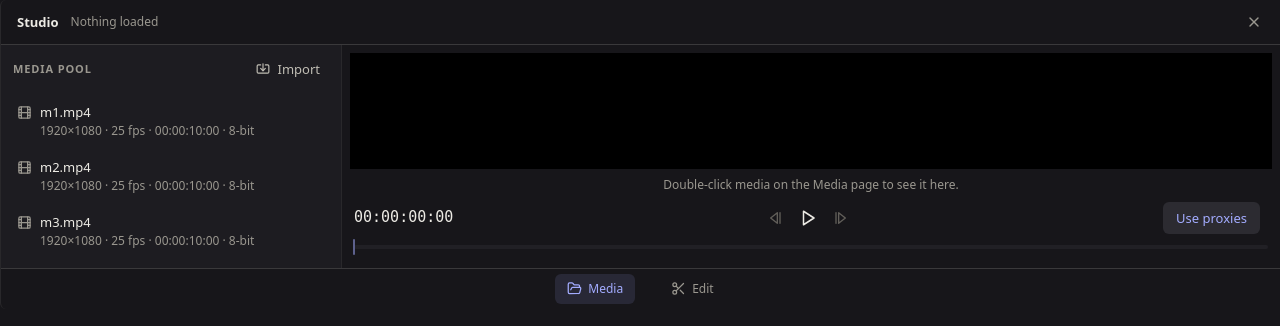
the media pool › shows media in the viewer at a double click, and at Enter; the arrows go through the list
Click the option "m2.mp4 1920×1080 · 25 fps · 00:00:10:00 · 8-bit".
click(136, 176)  # box [17, 158, 254, 194]
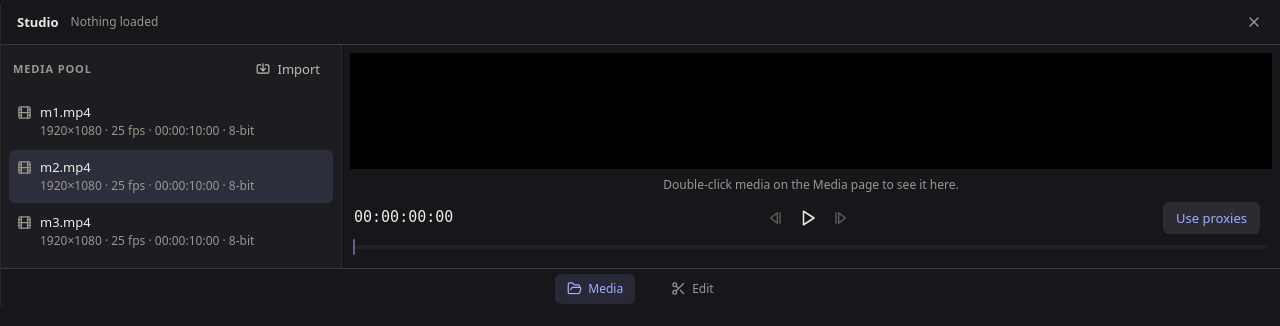
Double-click the option "m2.mp4 1920×1080 · 25 fps · 00:00:10:00 · 8-bit".
double_click(171, 176)  # box [9, 150, 333, 203]
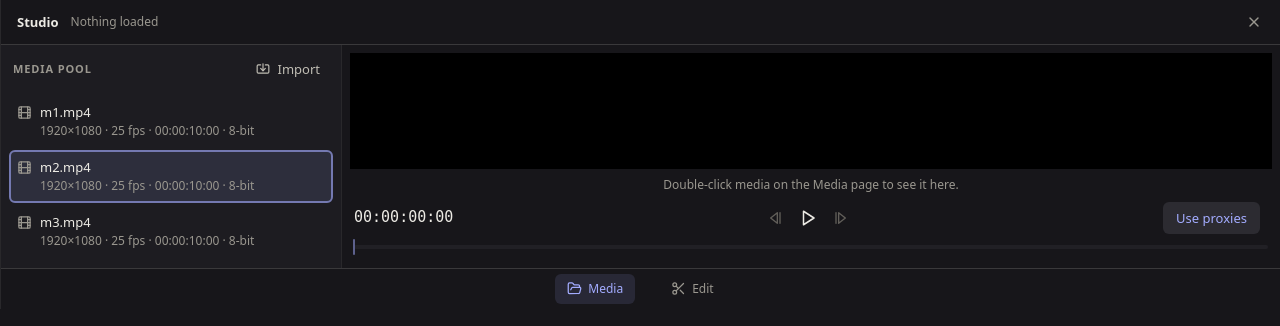
Press ArrowUp in the option "m2.mp4 1920×1080 · 25 fps · 00:00:10:00 · 8-bit", box [9, 150, 333, 203]
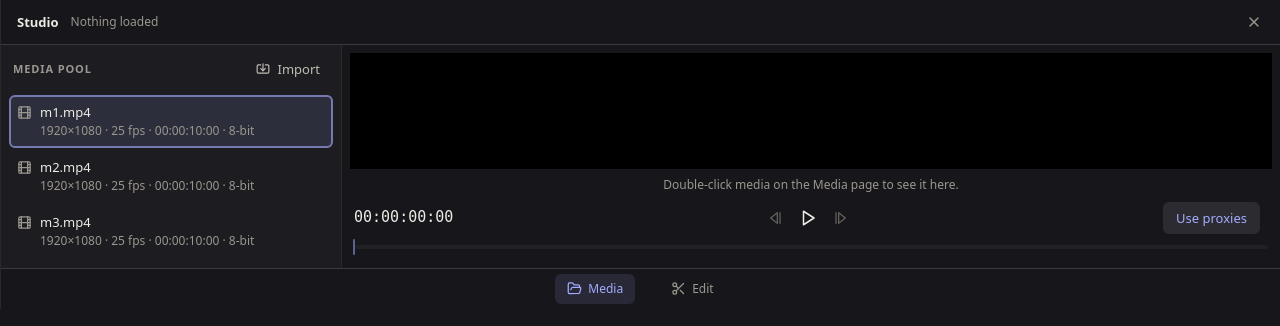
Press Enter in the option "m1.mp4 1920×1080 · 25 fps · 00:00:10:00 · 8-bit", box [9, 95, 333, 148]
Press ArrowDown in the option "m1.mp4 1920×1080 · 25 fps · 00:00:10:00 · 8-bit", box [9, 95, 333, 148]
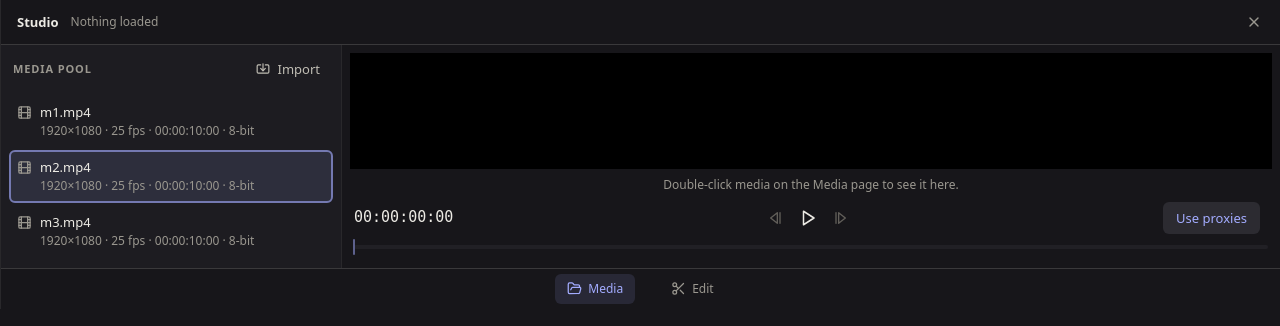
Press ArrowDown in the option "m2.mp4 1920×1080 · 25 fps · 00:00:10:00 · 8-bit", box [9, 150, 333, 203]
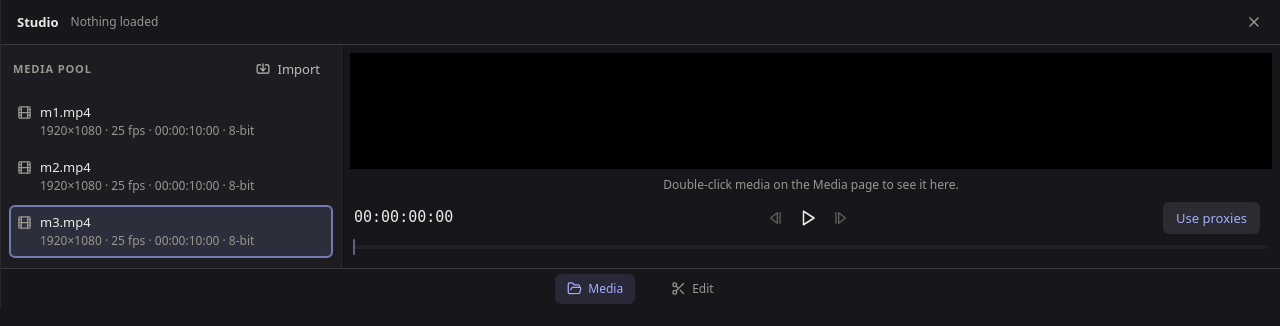
Press ArrowDown in the option "m3.mp4 1920×1080 · 25 fps · 00:00:10:00 · 8-bit", box [9, 205, 333, 258]
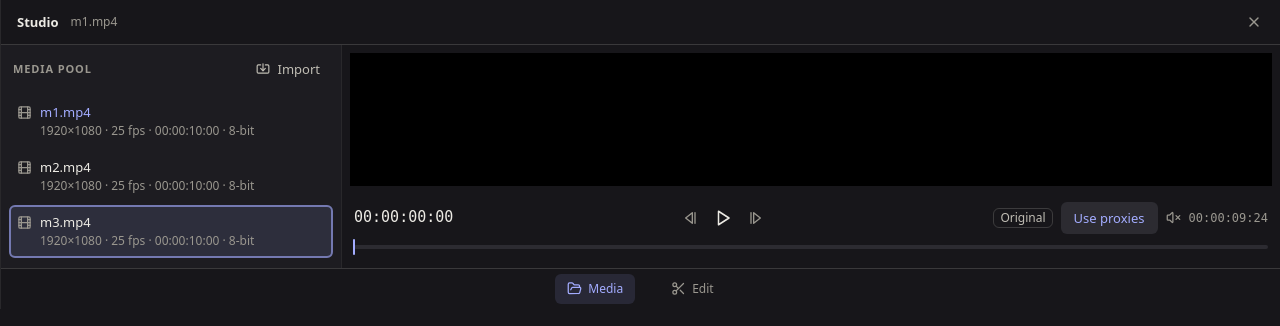
Now the text "m1.mp4" next to "Studio" is shown, box [71, 13, 117, 30]
